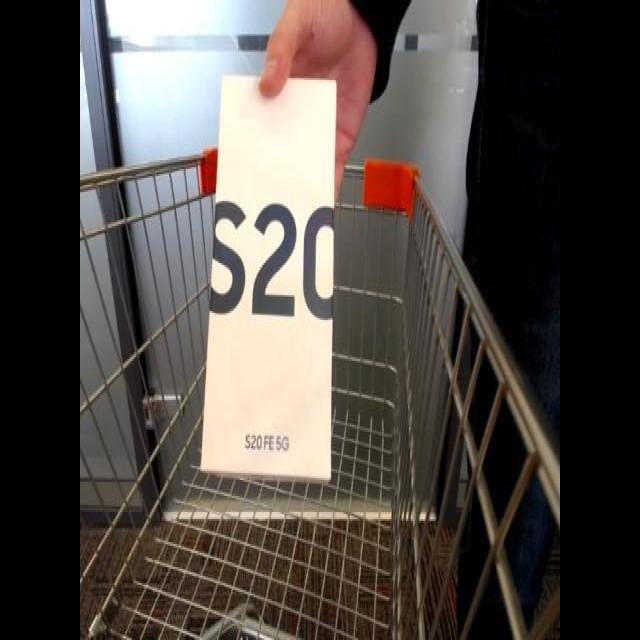Samsung S20: (196, 63, 342, 490)
